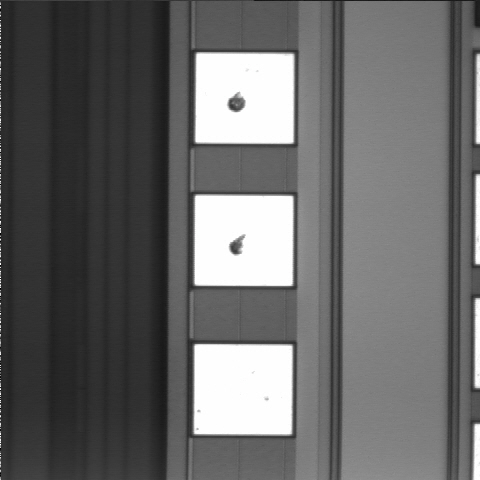pad: (195, 53, 294, 144), (195, 195, 293, 286), (194, 344, 292, 435)
